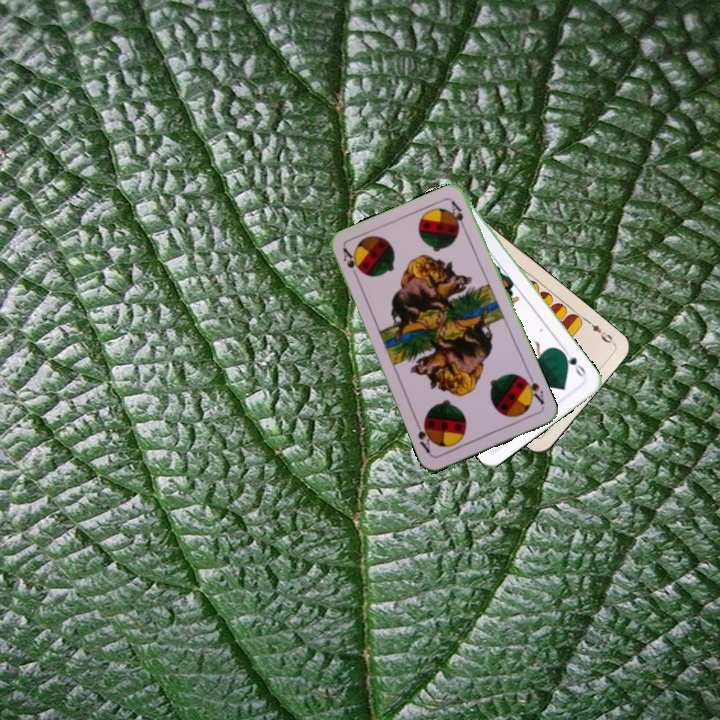E9: (583, 316, 616, 346)
GO: (558, 345, 589, 380)
SA: (519, 370, 547, 407), (338, 244, 364, 283)
